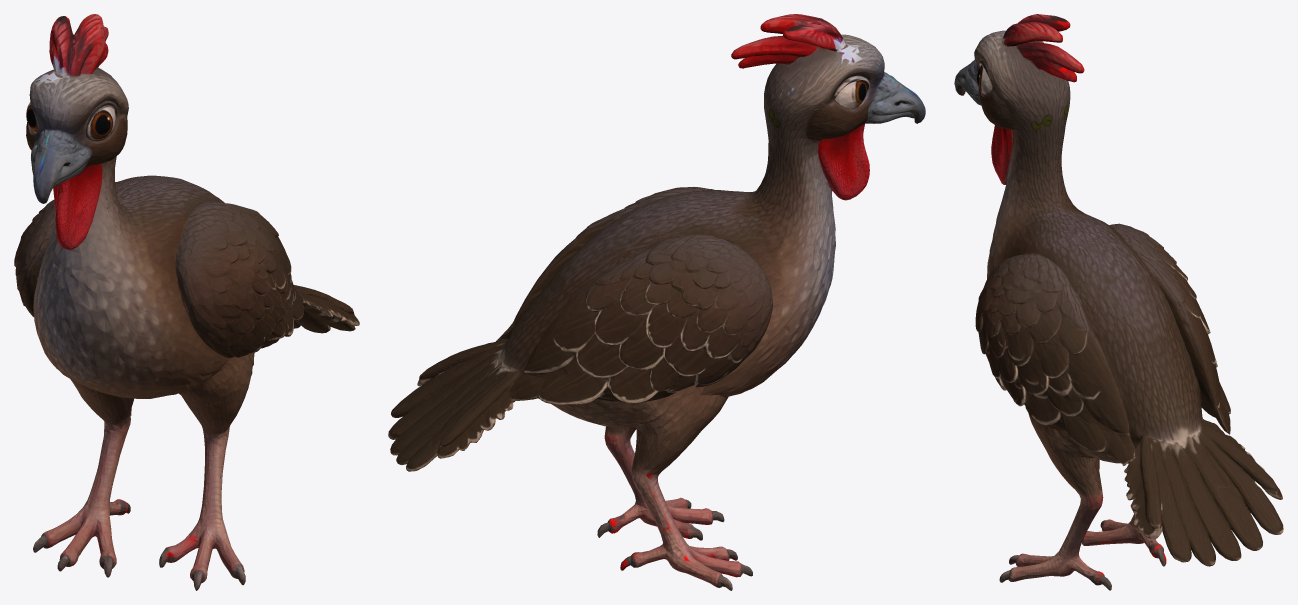
The model's file is pava.fbx.
The picture shows the model from 3 angles, left to right: view 1: azimuth 30°, elevation 25°; view 2: azimuth 150°, elevation 25°; view 3: azimuth 270°, elevation 25°; orthographic projection. The views are drawn at different scales.
Parts seen in each view (by area): view 1: pava; view 2: pava; view 3: pava.
Part boxes in pixels (box(x1,y1,x2,y2)): pava: box(14, 14, 359, 590); pava: box(388, 14, 925, 590); pava: box(954, 14, 1283, 590).
Size of the model in its own units: 1.6 by 1.99 by 1.18.
Materials: 1 (1 with a texture image).
